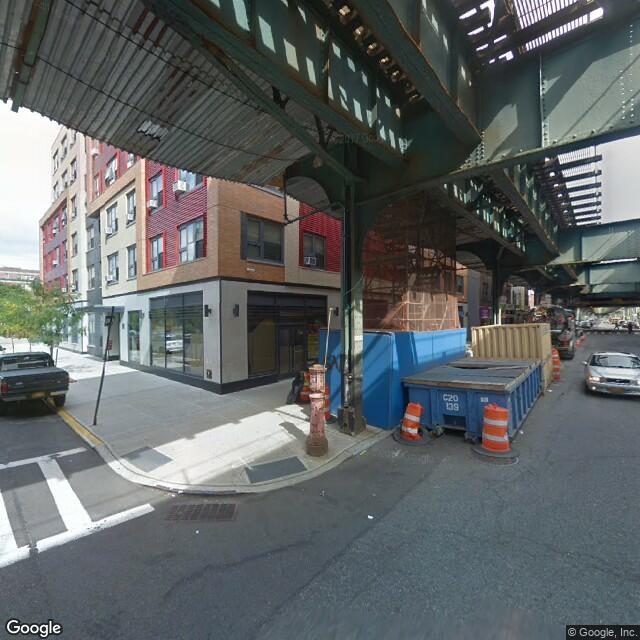litter: (517, 427, 525, 435), (367, 515, 376, 517), (548, 388, 551, 391), (195, 531, 198, 533)
